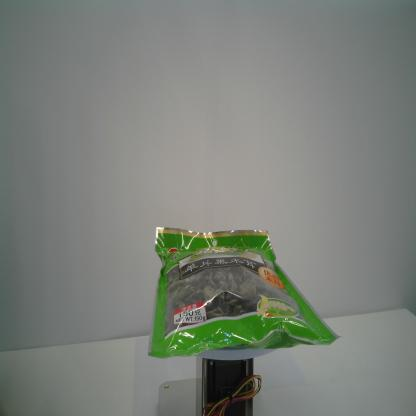Dried Food: (147, 226, 344, 358)
